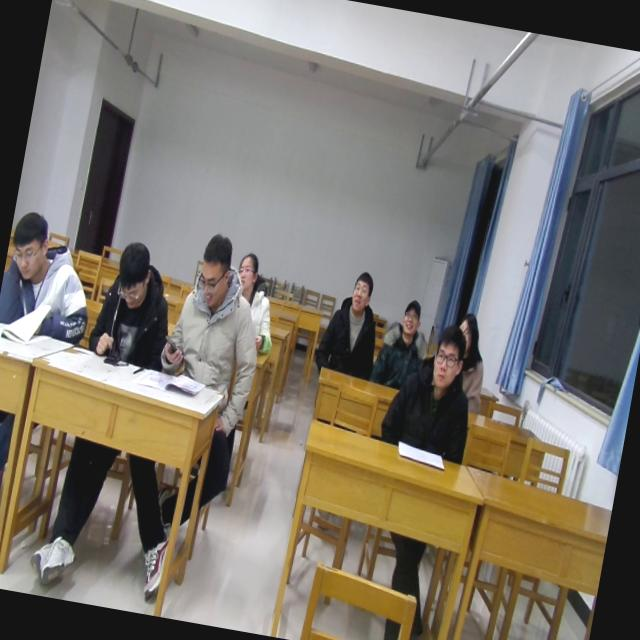bow: (0, 208, 105, 354)
down: (106, 233, 160, 316), (3, 207, 55, 286), (190, 228, 238, 310)
lookup: (424, 319, 470, 392), (452, 302, 488, 358), (393, 292, 428, 340), (232, 245, 262, 296), (348, 266, 377, 316)
sit: (154, 225, 276, 398), (376, 313, 486, 463), (82, 235, 182, 378), (312, 265, 390, 382), (221, 248, 288, 360), (370, 296, 436, 394), (443, 312, 498, 418)
